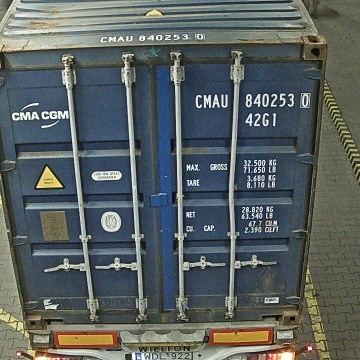serial_id: (196, 93, 310, 107)
